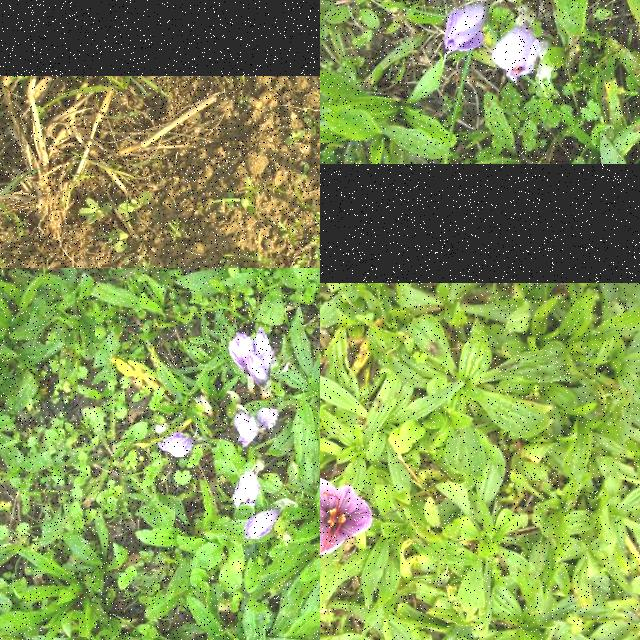flower: (320, 476, 373, 555), (492, 27, 542, 85), (444, 5, 491, 53), (246, 512, 278, 540), (233, 472, 259, 506), (158, 434, 194, 458)
overlap: (228, 331, 276, 384), (236, 411, 278, 447)
